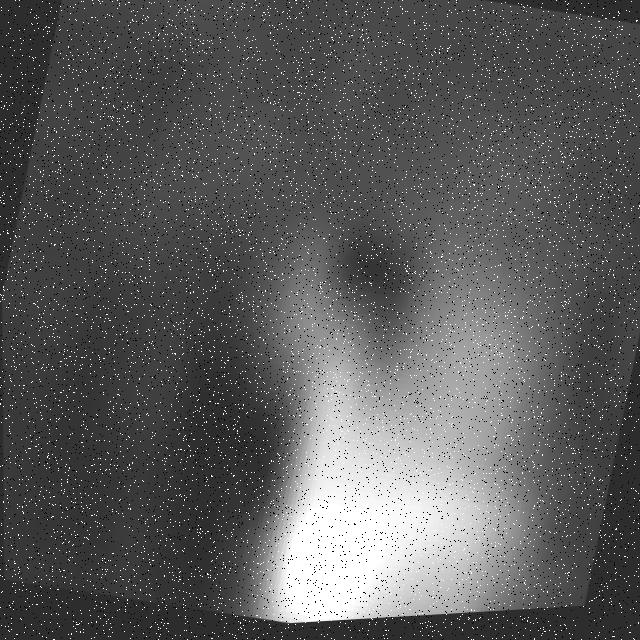person: (231, 110, 639, 630)
